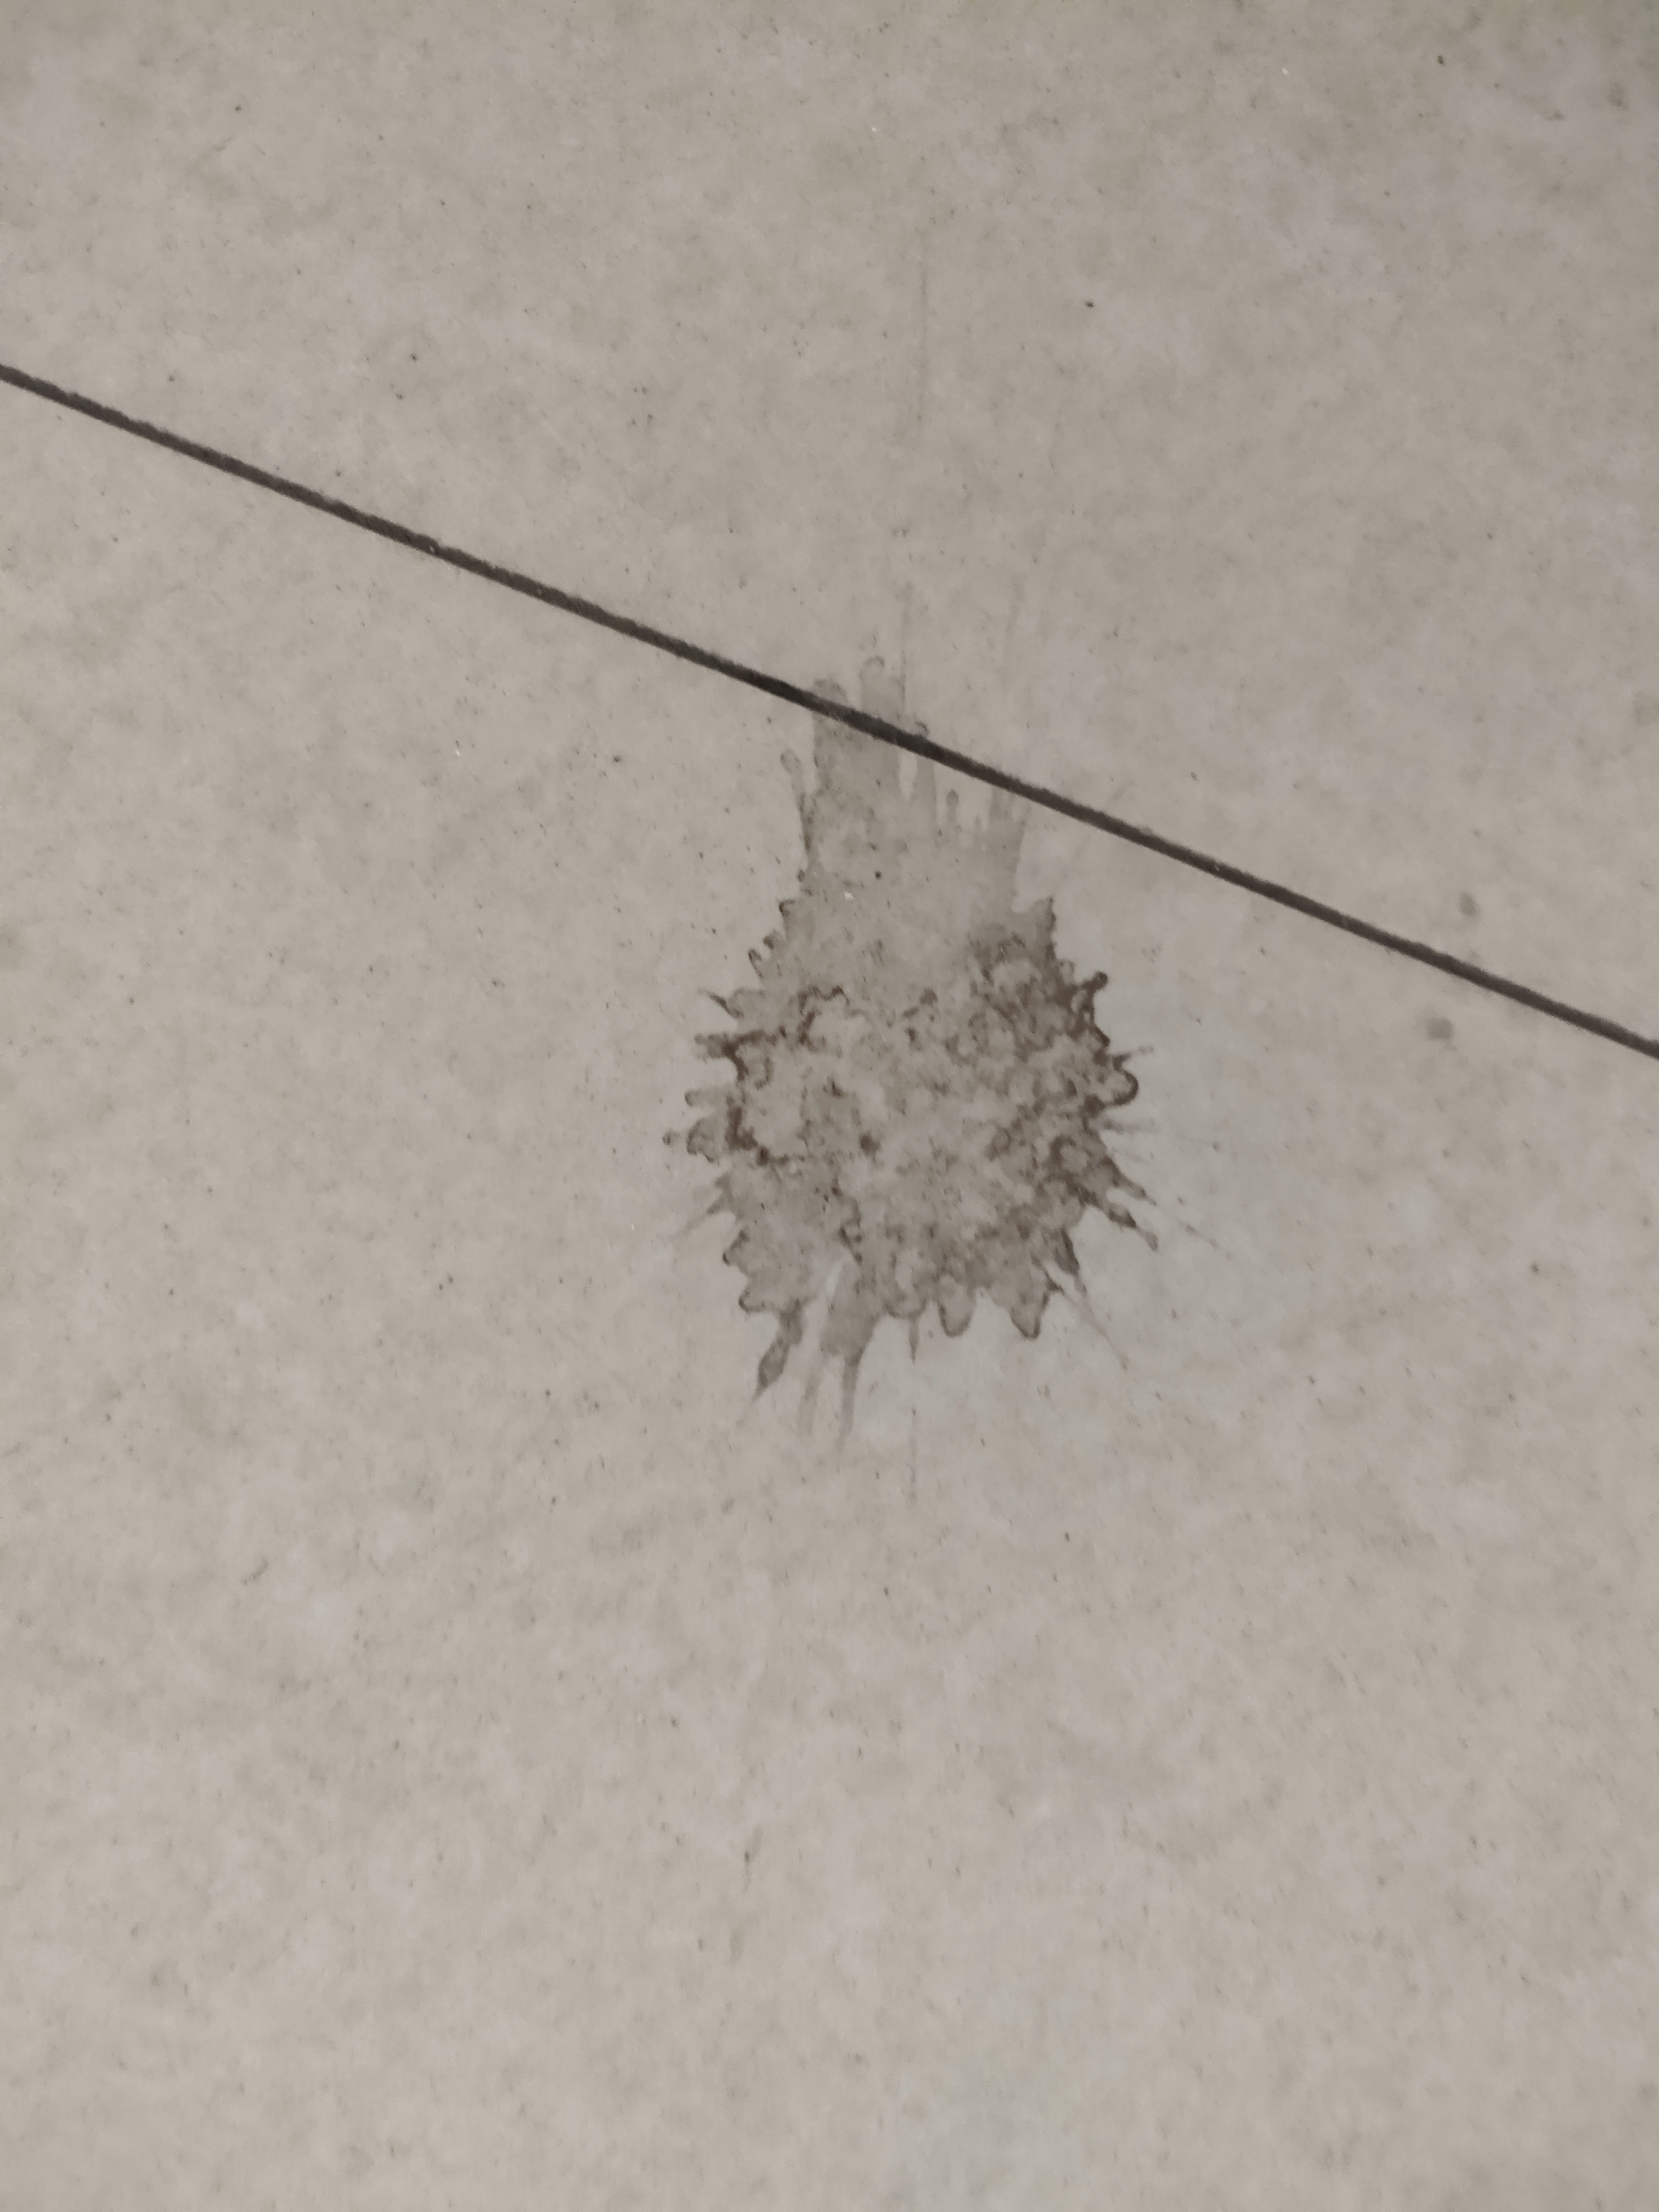grey spot: (662, 639, 1154, 1435)
